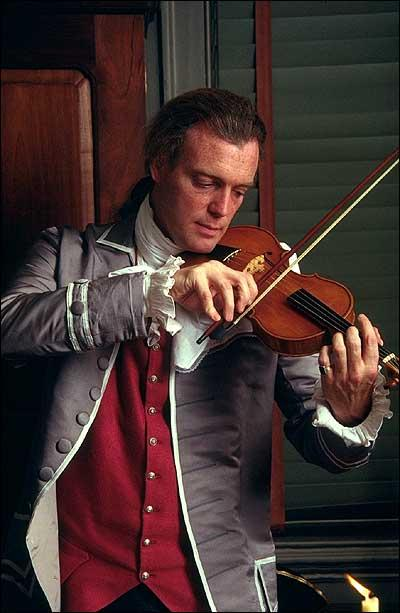person: (1, 89, 394, 613)
